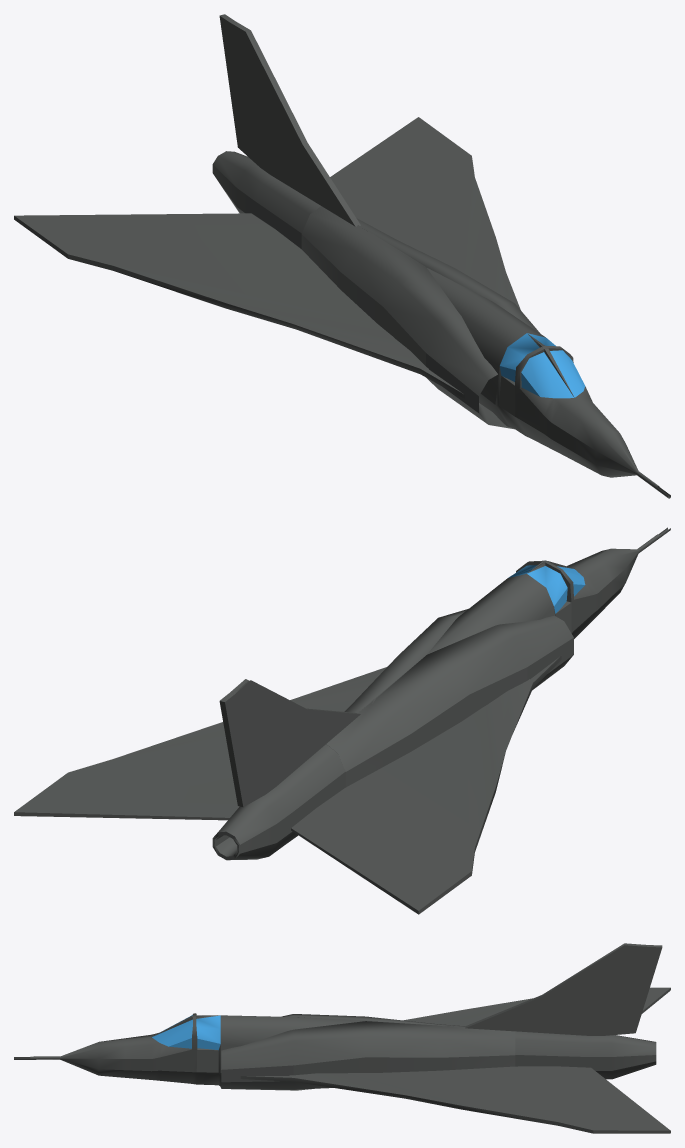
File: Mondeno_test.glb
3 views of the same model, one above another, from view 1: azimuth 30°, elevation 25°; view 2: azimuth 150°, elevation 25°; view 3: azimuth 270°, elevation 25° (orthographic). The views are drawn at different scales.
Visible parts, largest first — view 1: Tail; view 2: Tail; view 3: Tail.
Boxes of the visible parts, x1,y1,x2,y2 form: Tail: (14,14,670,498); Tail: (14,527,670,914); Tail: (14,943,670,1133).
Size of the model in its own units: 8.62 by 4.11 by 16.73.
